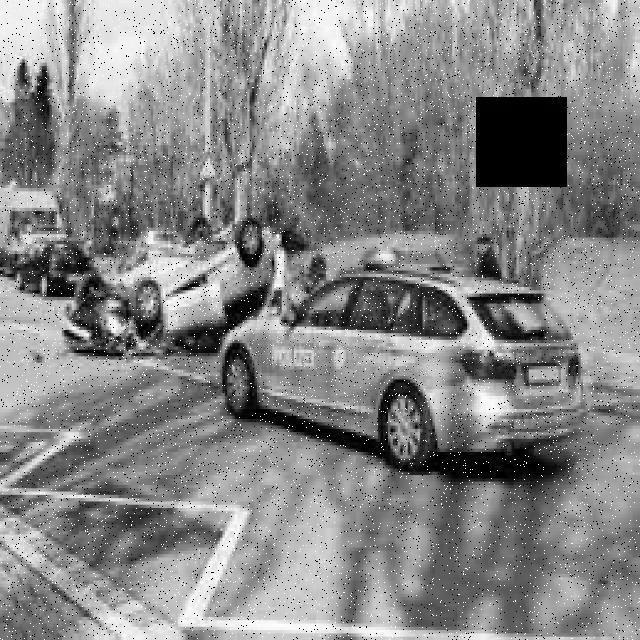accident: (59, 198, 282, 366)
vehicle: (218, 261, 588, 473), (1, 184, 67, 287), (12, 238, 98, 308)
